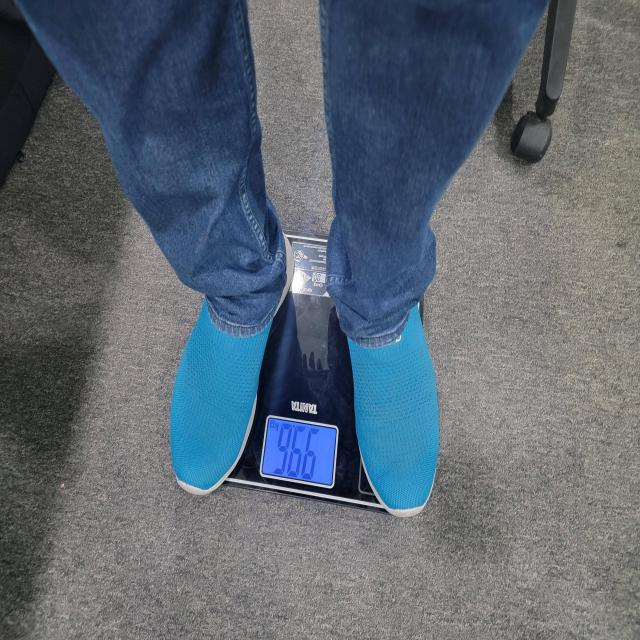ws: (232, 299, 388, 510)
